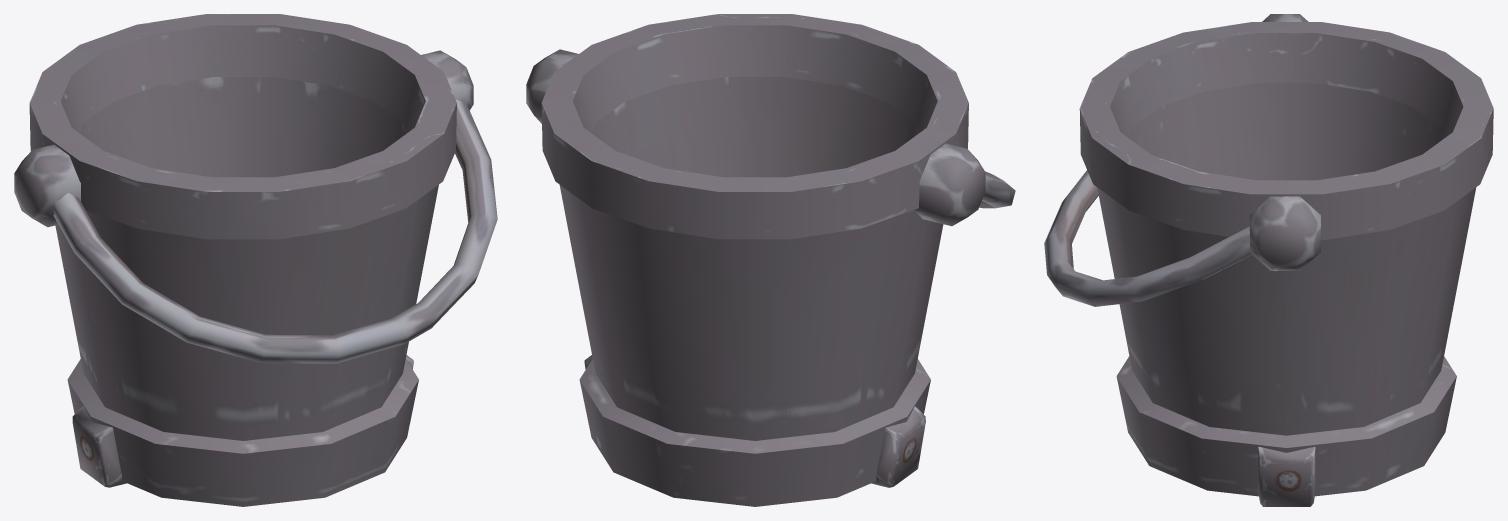
File: Bucket_Metal.gltf
3 renders of one model, left to right at view 1: azimuth 30°, elevation 25°; view 2: azimuth 150°, elevation 25°; view 3: azimuth 270°, elevation 25°, orthographic. The views are drawn at different scales.
Visible parts, largest first — view 1: Bucket_Metal; view 2: Bucket_Metal; view 3: Bucket_Metal.
Boxes of the visible parts, x1=… form: Bucket_Metal: x1=14, y1=14, x2=497, y2=506; Bucket_Metal: x1=526, y1=14, x2=1015, y2=506; Bucket_Metal: x1=1044, y1=14, x2=1493, y2=506.
Size of the model in its own units: 0.4854 by 0.365 by 0.449.
Materials: 1 (1 with a texture image).
